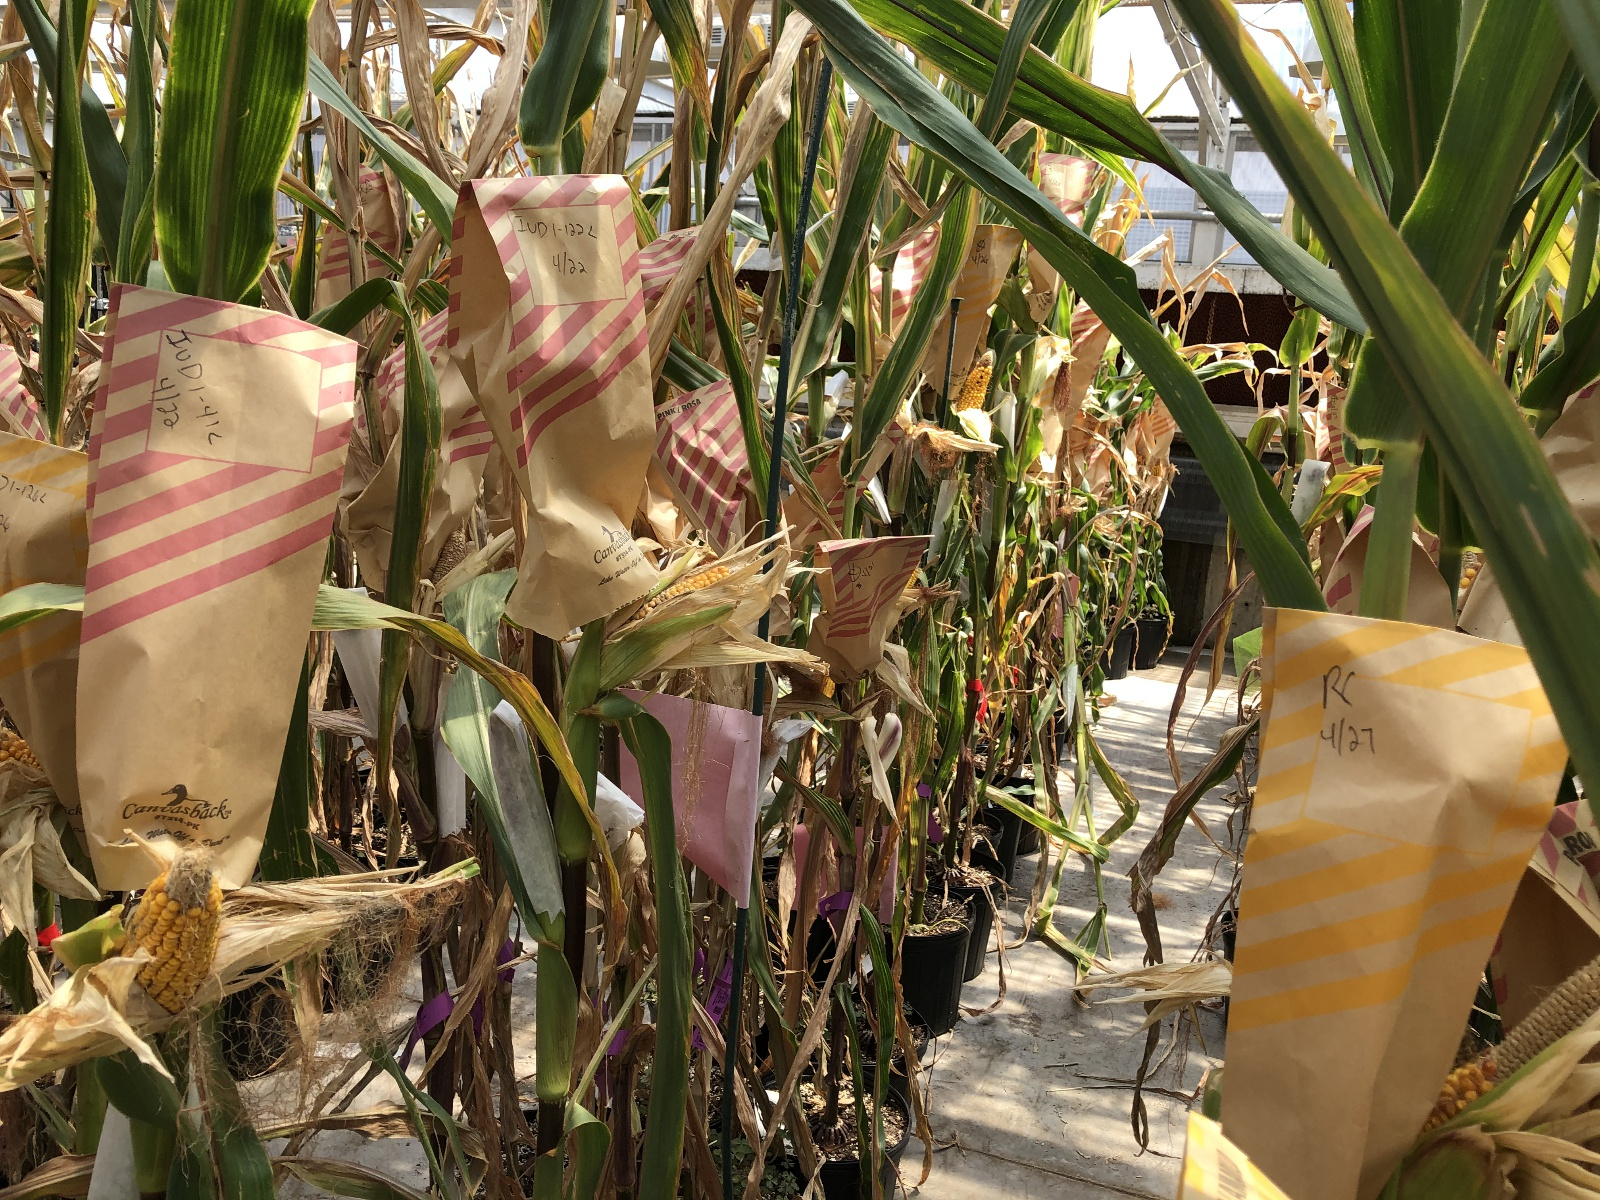ear: (1409, 961, 1597, 1145), (587, 529, 782, 689), (118, 839, 231, 1017), (411, 523, 469, 721), (951, 345, 1003, 431), (3, 726, 47, 782), (1453, 556, 1487, 603)
